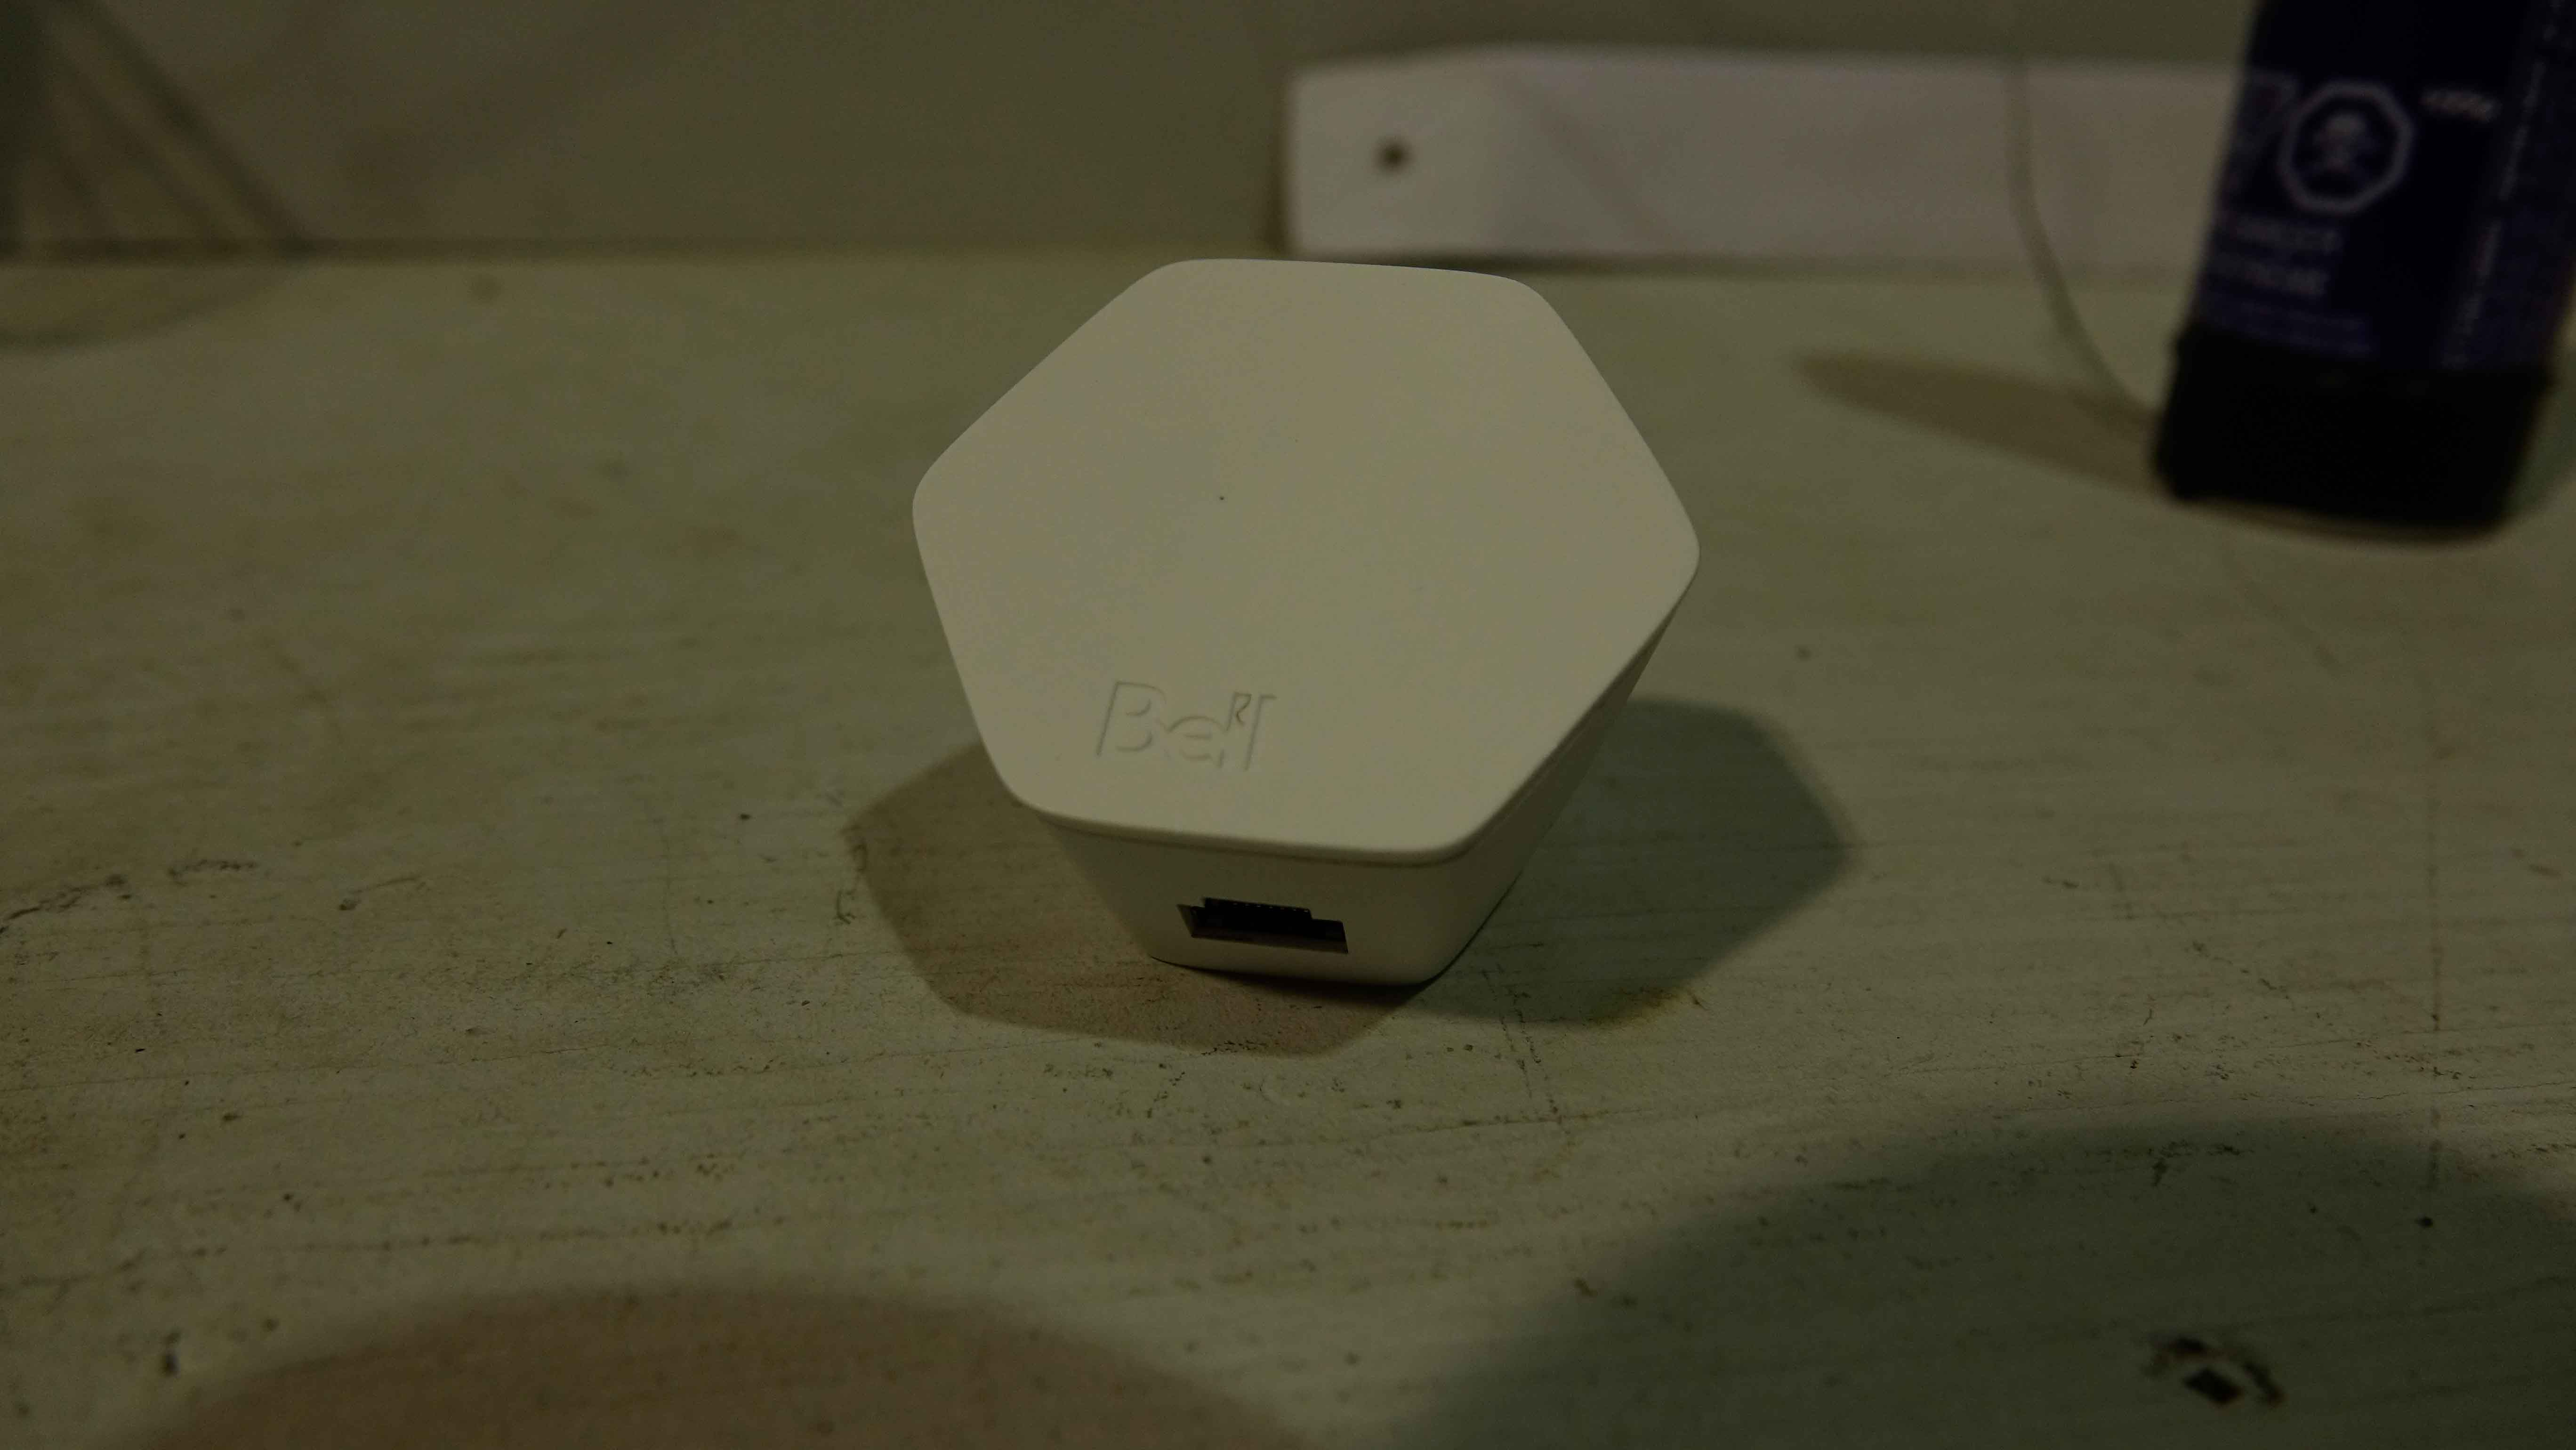pod: (901, 248, 1713, 1019)
